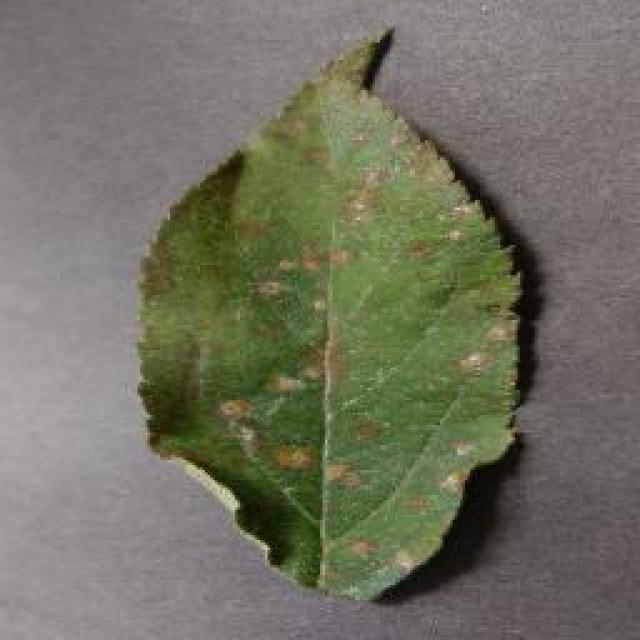apple rust disease: (132, 22, 530, 602)
